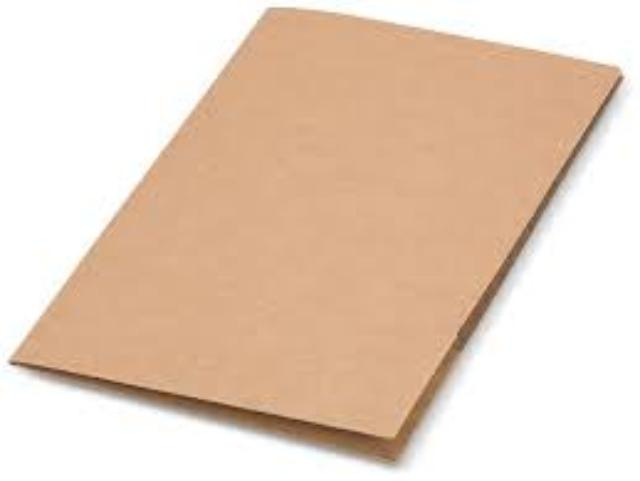cardboard paper: (10, 5, 615, 455)
